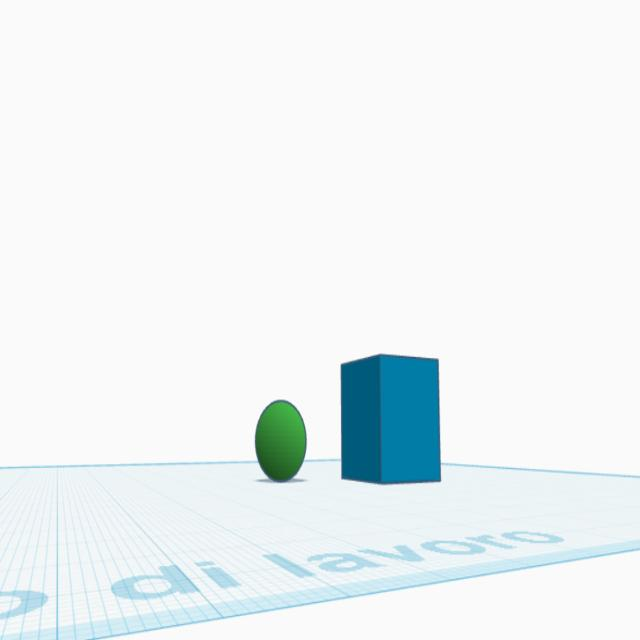cube: (338, 352, 443, 487)
sphere: (254, 398, 309, 484)
